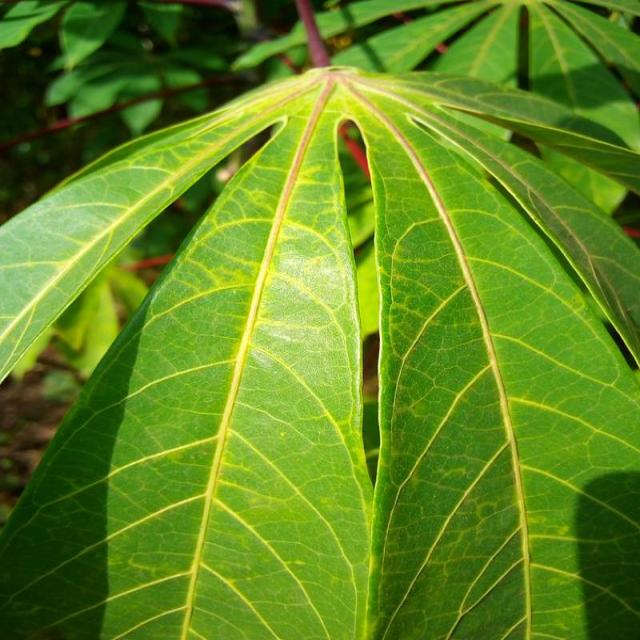cassava leaf: (1, 64, 638, 638)
